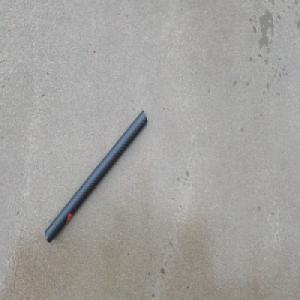LuggagePart: (44, 109, 148, 244)
